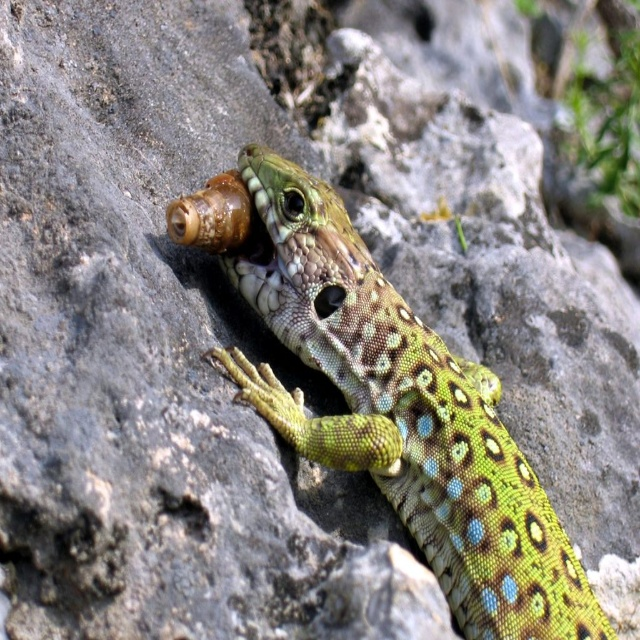Lizard: (200, 143, 619, 640)
